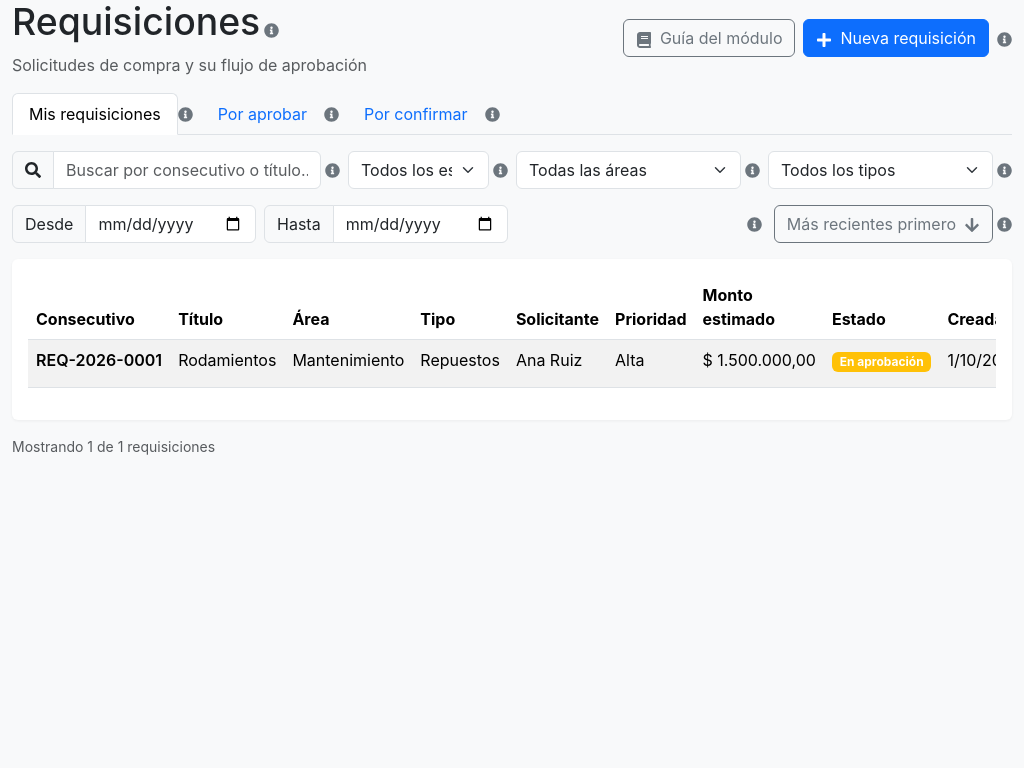
RequisicionesListPage help hints › opens the module guide from the header
The width and height of the screenshot is (1024, 768).
Click the button "Guía del módulo" at (709, 38), box 623,19 -> 796,57
(page scrolled)
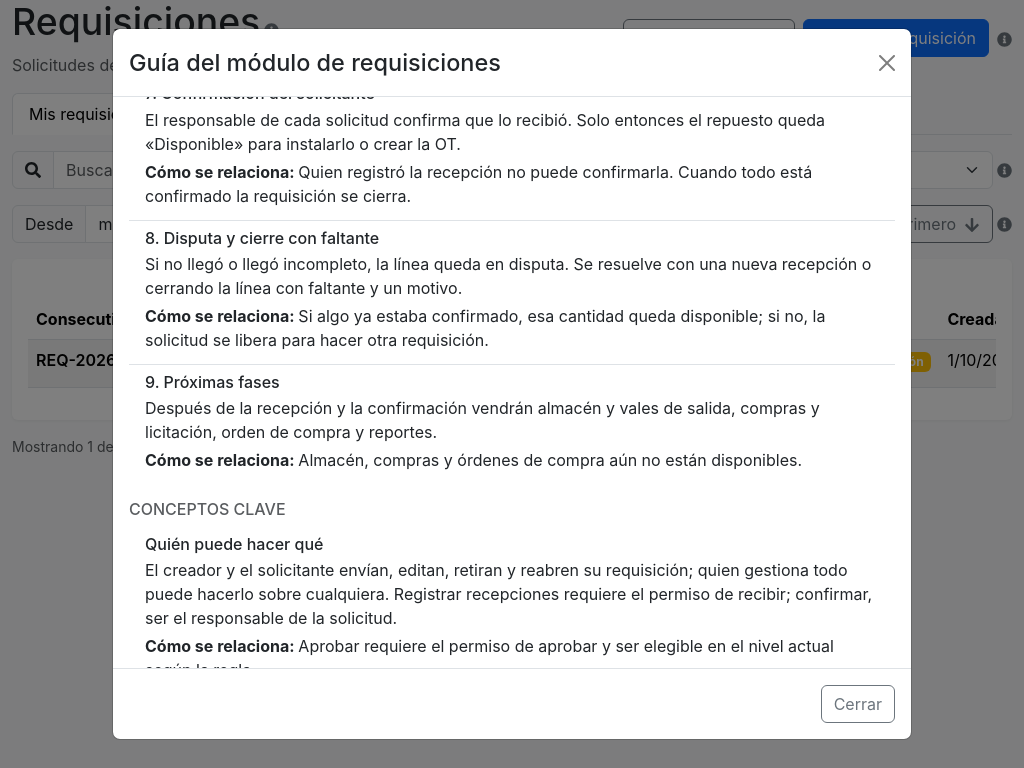
Expected: the dialog shows "Guía del módulo de requisiciones", 129,48 -> 501,77
Expected: the heading "9. Próximas fases" is shown, 145,372 -> 280,392
